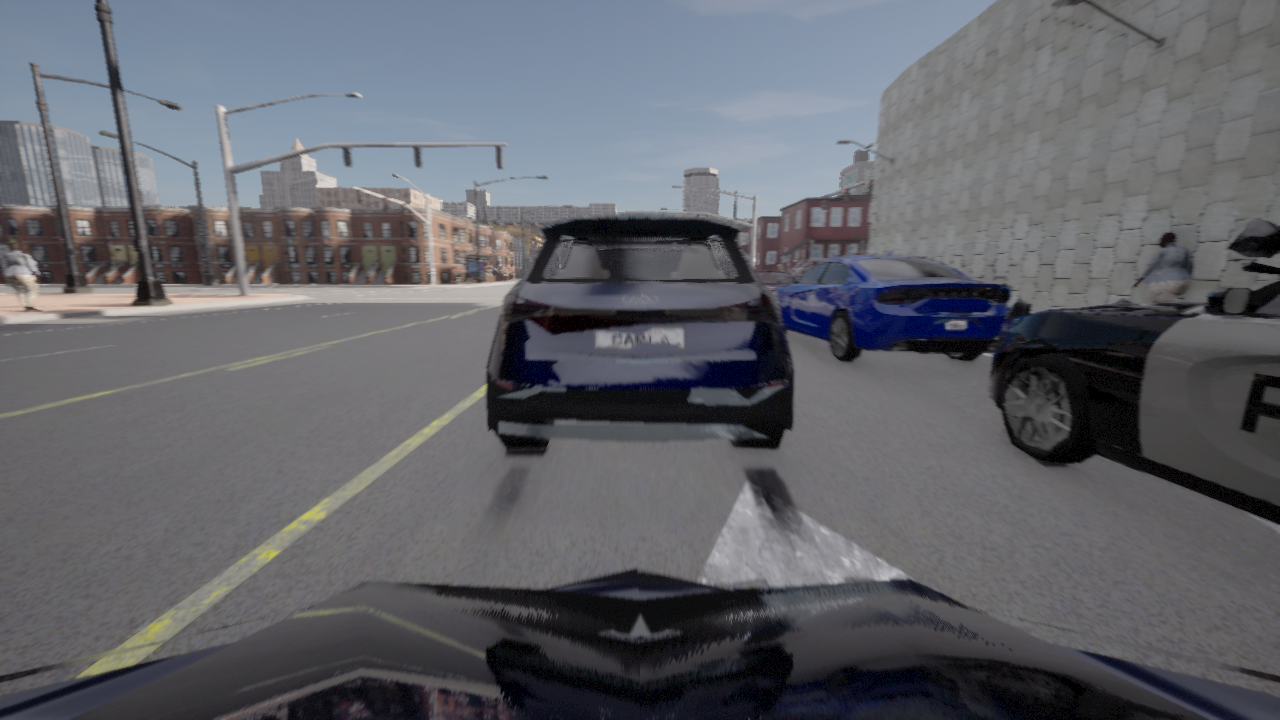cyclist: (0, 569, 1279, 719), (988, 217, 1279, 525), (486, 213, 793, 448), (773, 252, 1011, 361), (754, 271, 792, 293)
pedestrian: (1132, 232, 1191, 302), (2, 242, 42, 311), (778, 265, 781, 271)
